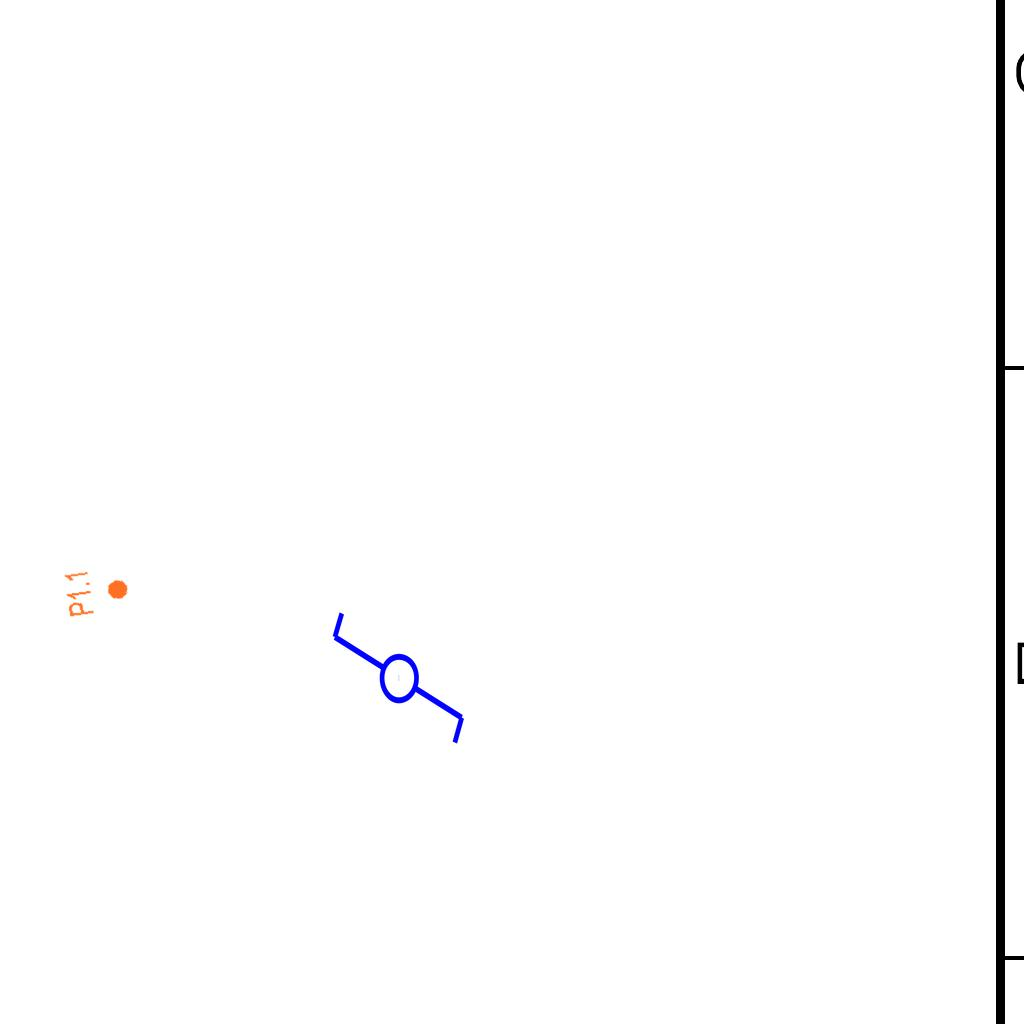Downlight_LED_Einbauleuchten_Flur: (62, 563, 132, 619)
Wechselschalter: (325, 608, 469, 765)
